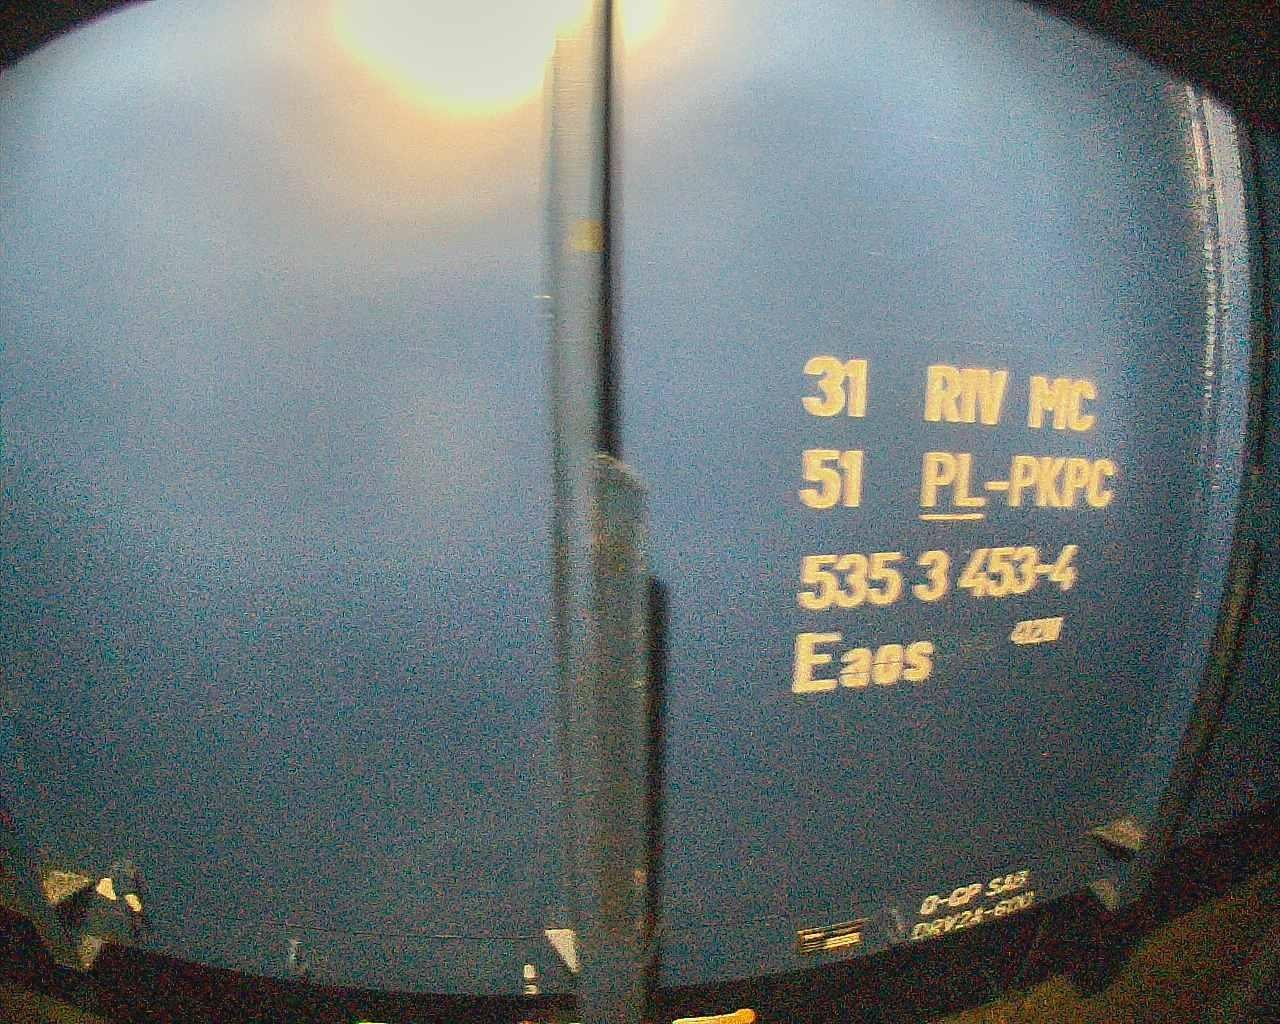UIC: (787, 351, 1123, 695)
